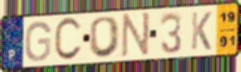3: (159, 11, 183, 56)
C: (53, 16, 84, 63)
G: (24, 20, 53, 63)
K: (190, 10, 213, 52)
N: (119, 11, 152, 59)
O: (88, 15, 123, 60)
